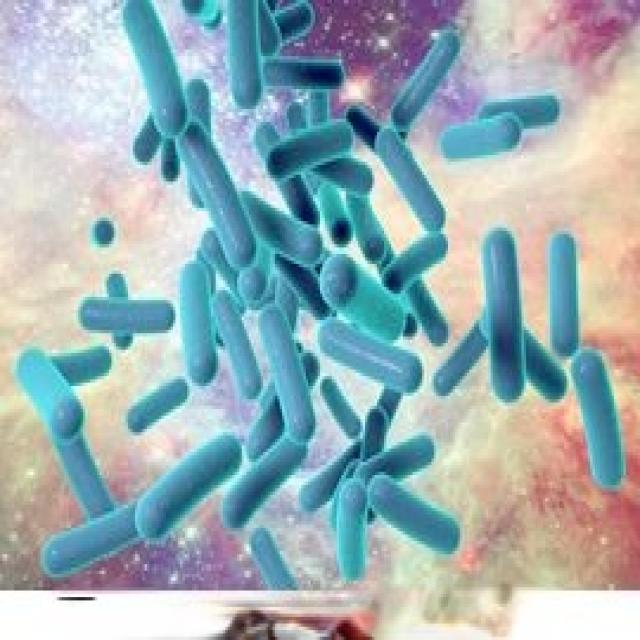Rod_bacteria: (14, 0, 628, 591)
